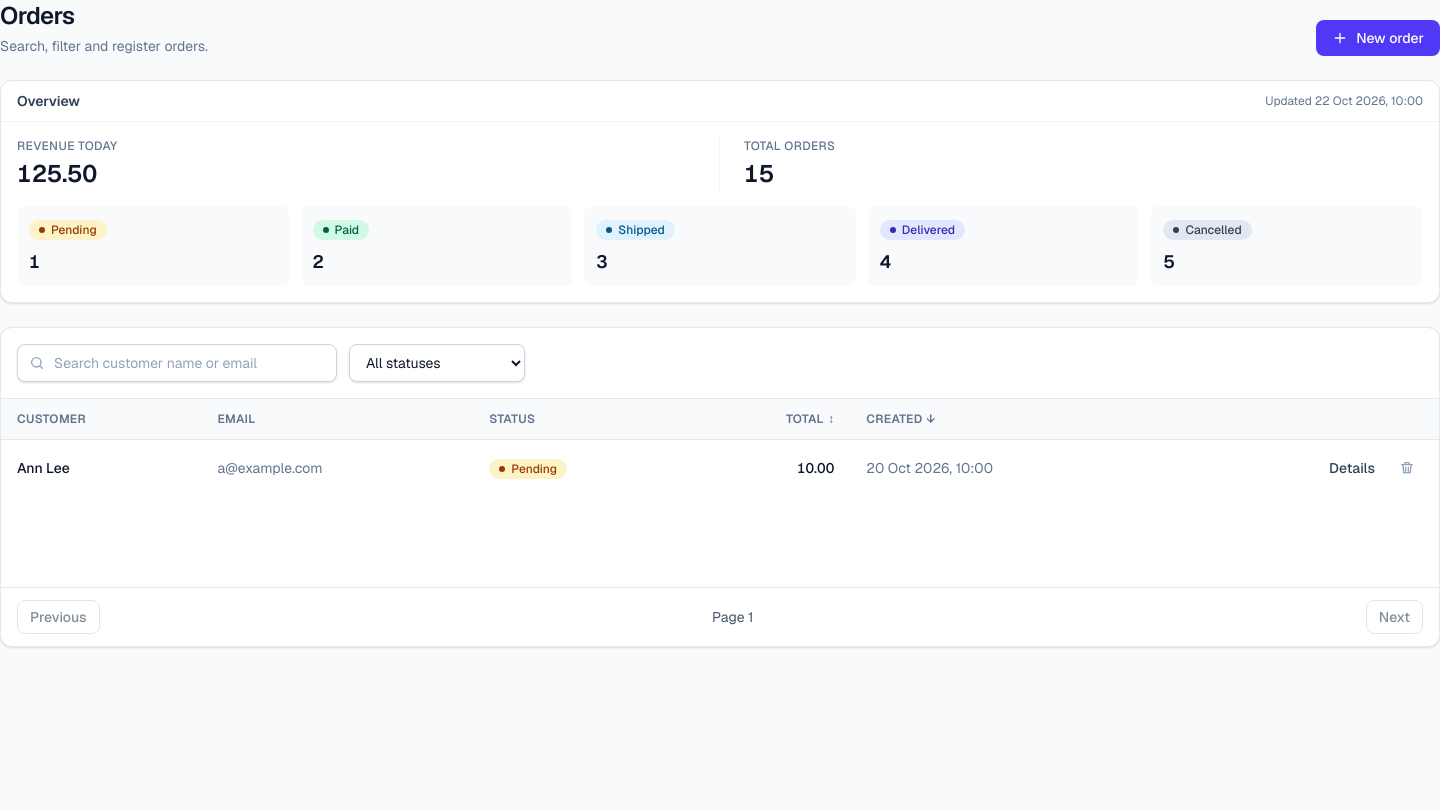
Scenario: OrdersView › delete order (admin only) › asks for confirmation and sends nothing when cancelled
Check: the text "ann lee" is shown, box [17,459,70,477]
Click the button named "Delete order for" at (1407, 468), box [1391,452,1423,484]
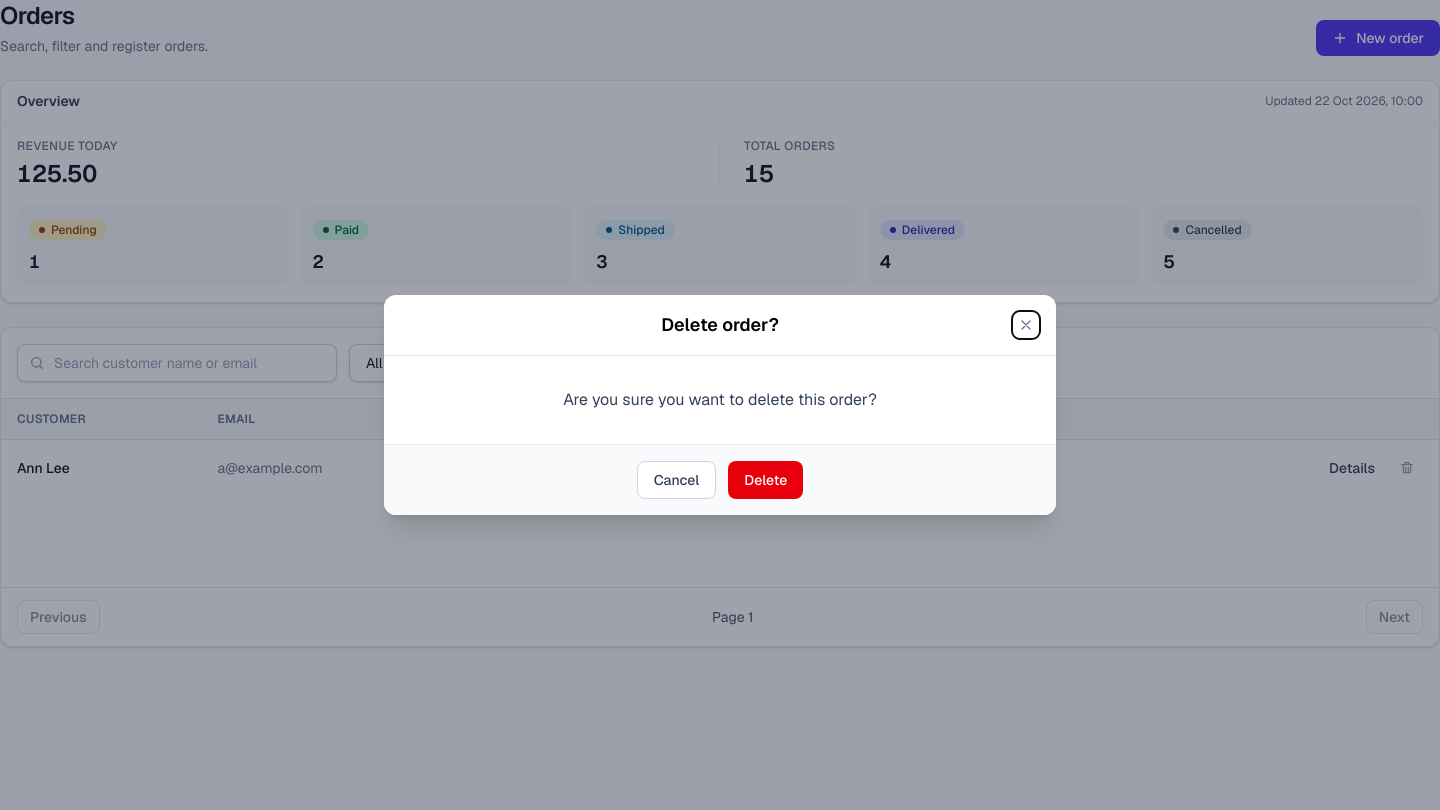
Check: the text "Are you sure you want to delete this order?" is shown, box [563,389,877,410]
Click the button "Cancel" at (676, 480), box [637,461,716,499]
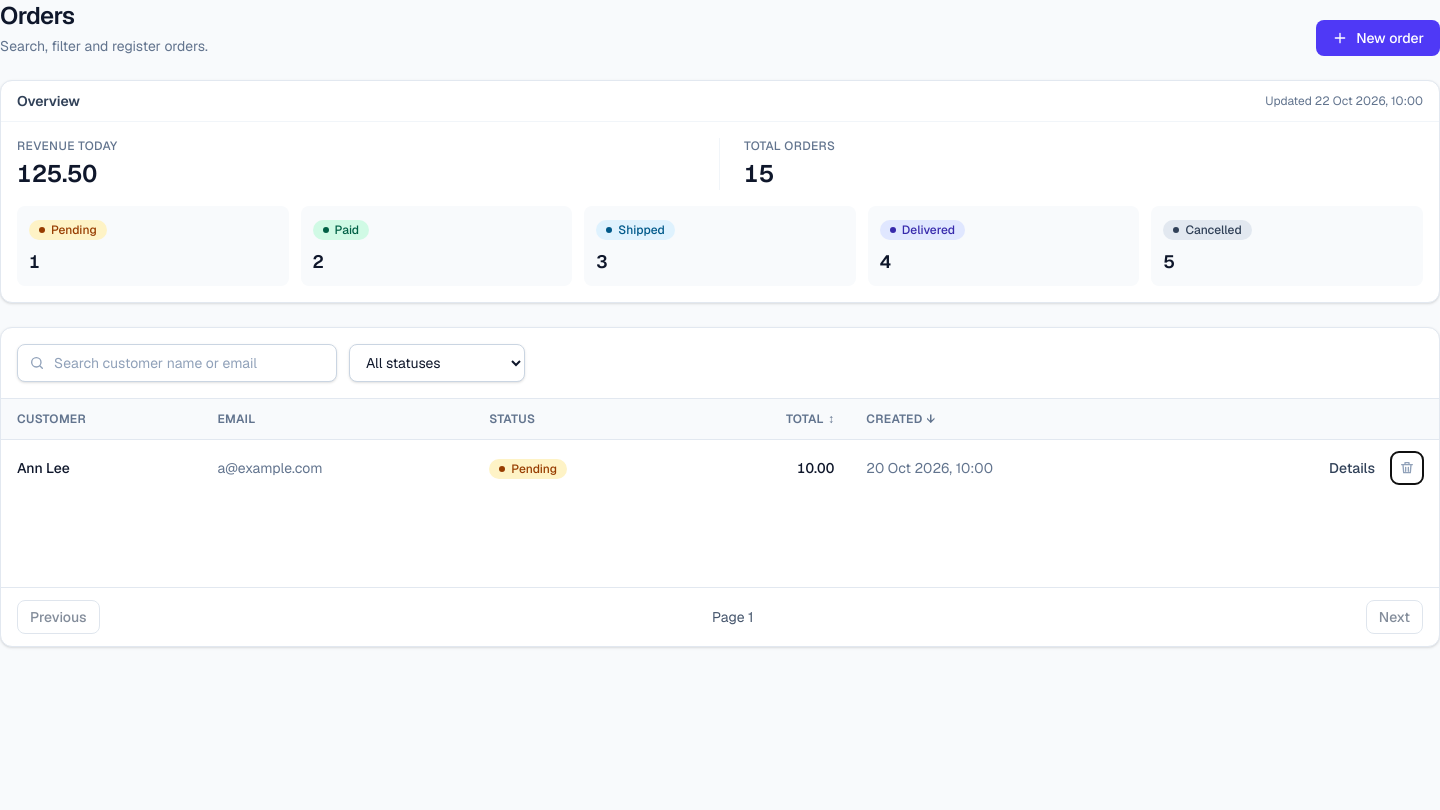
Check: the dialog is gone
